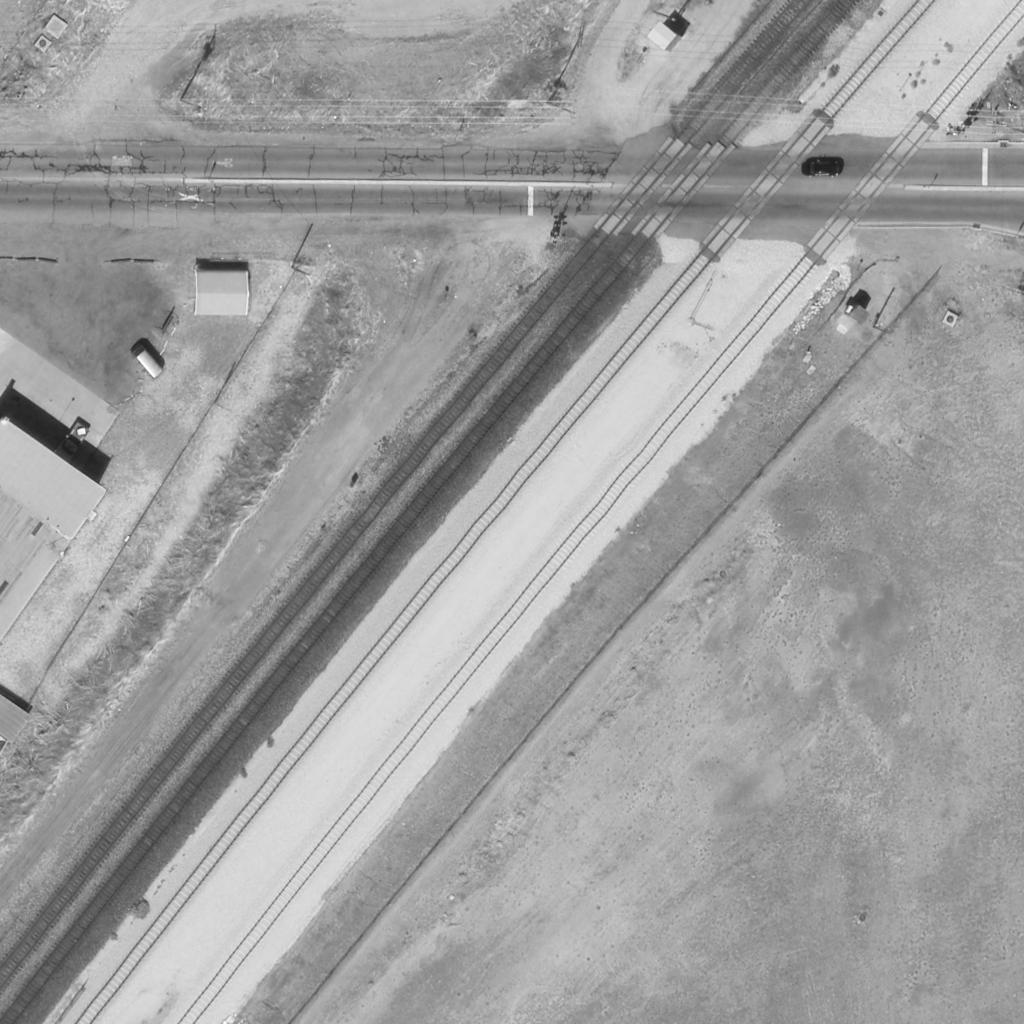vehicle: (54, 420, 92, 462), (131, 346, 165, 380)
